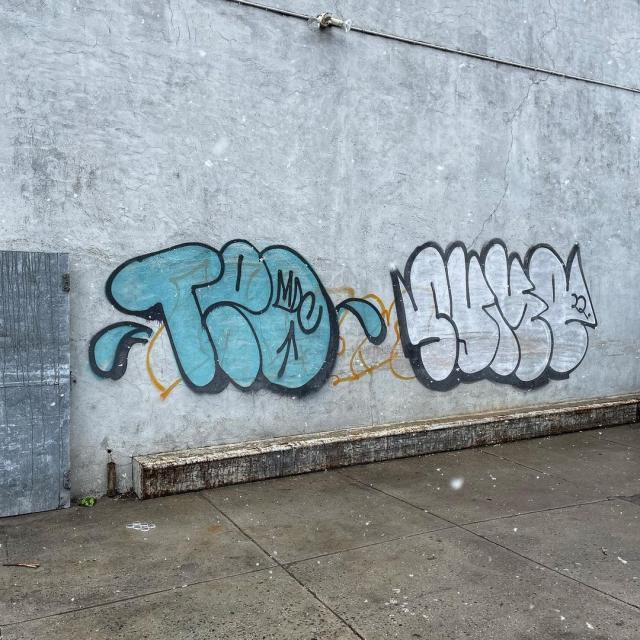-: (37, 204, 390, 408), (374, 221, 610, 391)
